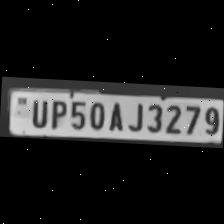0: (85, 97, 107, 129)
2: (161, 102, 183, 134)
3: (143, 100, 163, 132)
5: (65, 97, 87, 129)
7: (180, 102, 200, 134)
9: (199, 104, 221, 134)
A: (106, 98, 126, 132)
J: (124, 98, 144, 132)
P: (47, 96, 67, 128)
U: (27, 96, 50, 128)
